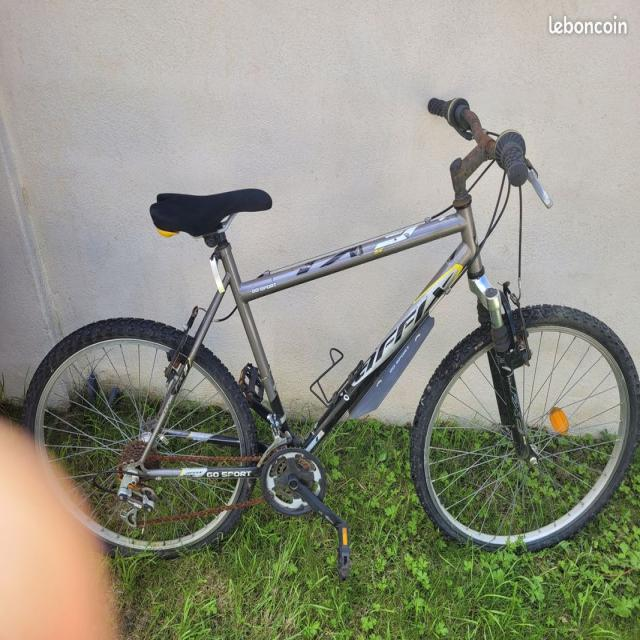Bike: (20, 95, 640, 558)
